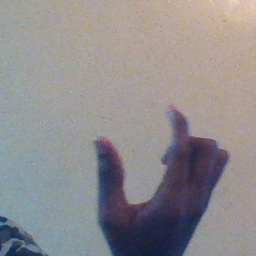U: (85, 100, 233, 251)
